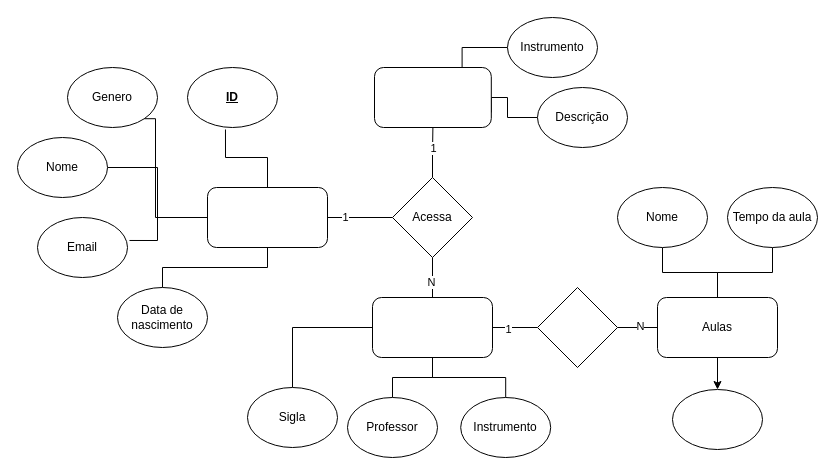
The diagram is 835 pixels wide and 475 high, and some of its shapes have lost their labels. The shapes that lost their labels are listed below. From the top down, each one's box as (x1, y1, x2, y2) in pixels, then its label:
(374, 66, 491, 128): Perfil
(206, 186, 328, 248): Usuário
(372, 296, 492, 358): Módulos
(536, 286, 618, 368): Contém
(672, 388, 762, 450): Conteúdo
